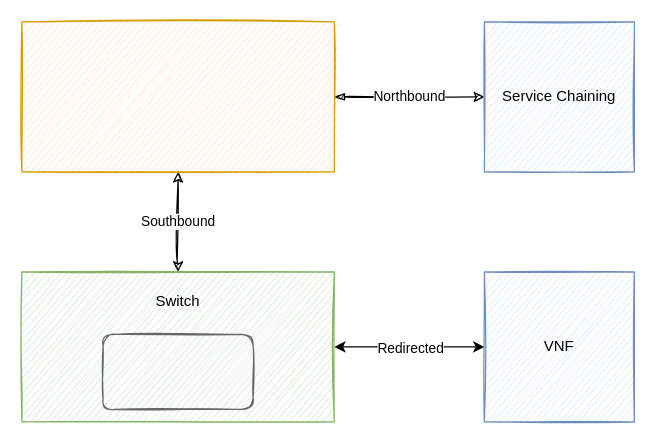
This 656x444 diagram has some shape labels left out. The centre of each missing label's shape, as x and y in pixels:
"Controller" goes at (177,96).
"Flow Table" goes at (177,371).
